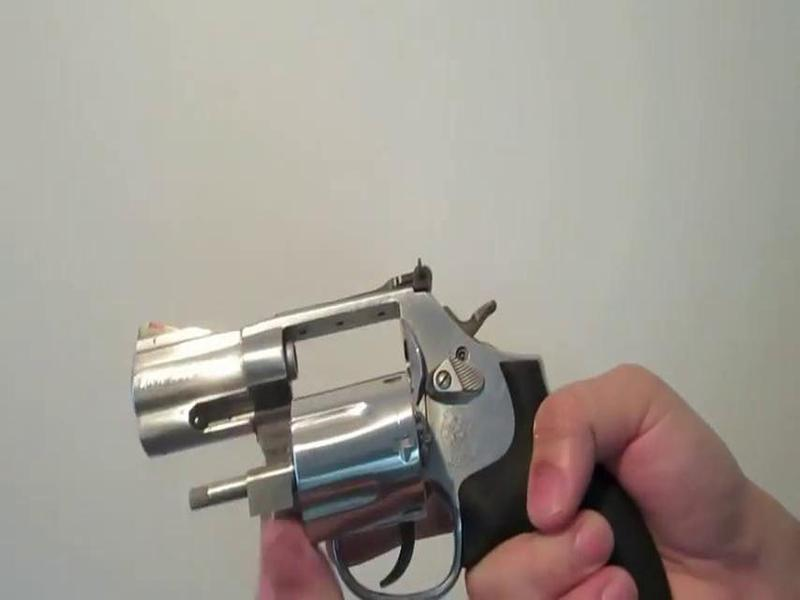Revolver: (104, 225, 717, 600)
